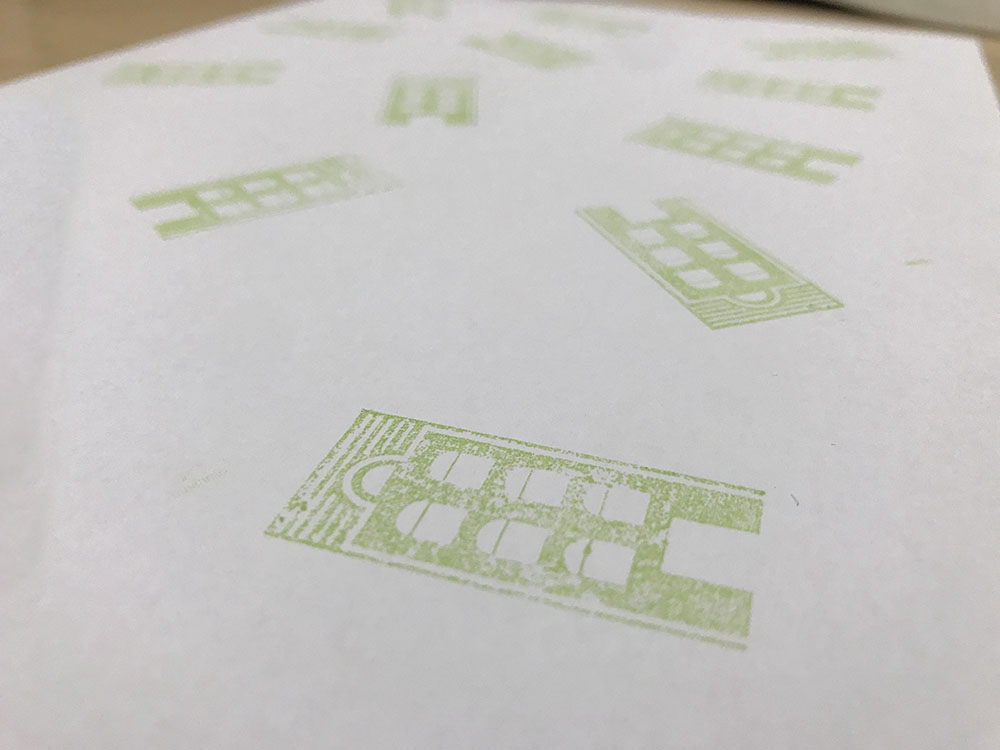build: (233, 376, 789, 667), (561, 177, 858, 351), (119, 147, 416, 252), (607, 107, 885, 200)
